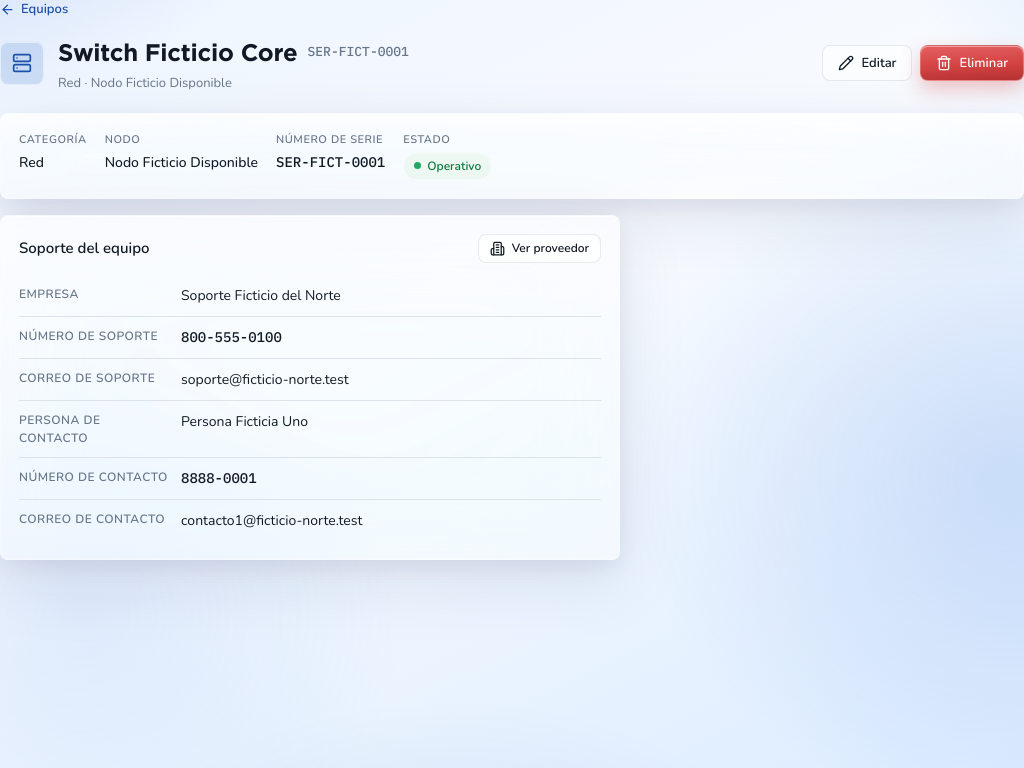
EquipmentDetail › advierte que la eliminacion se rechazara si el equipo tiene historial de mantenimiento
The width and height of the screenshot is (1024, 768).
Check: the heading "Switch Ficticio Core" is shown, box [58,34,298,70]
What coordinates should you click on to do the following:
click the button "Eliminar"
I would click on:
 (972, 63)
Its box is [920,45,1023,81].
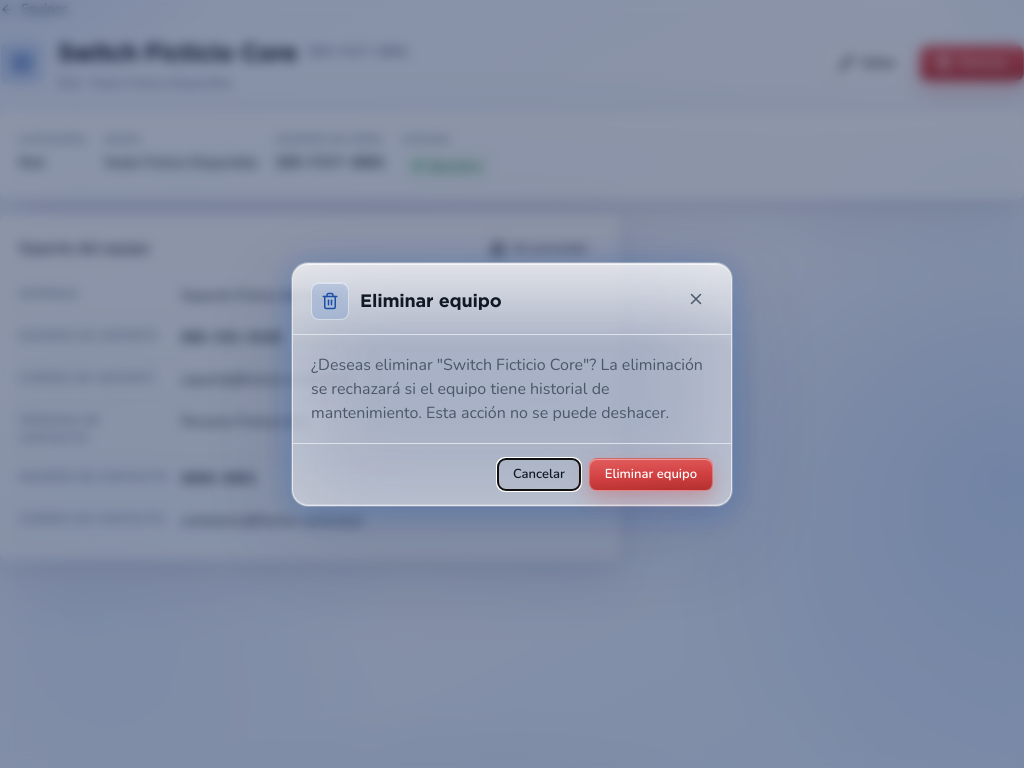
Check: the text "se rechazará si el equipo tiene historial de mantenimiento" is shown, box [311,354,703,424]
